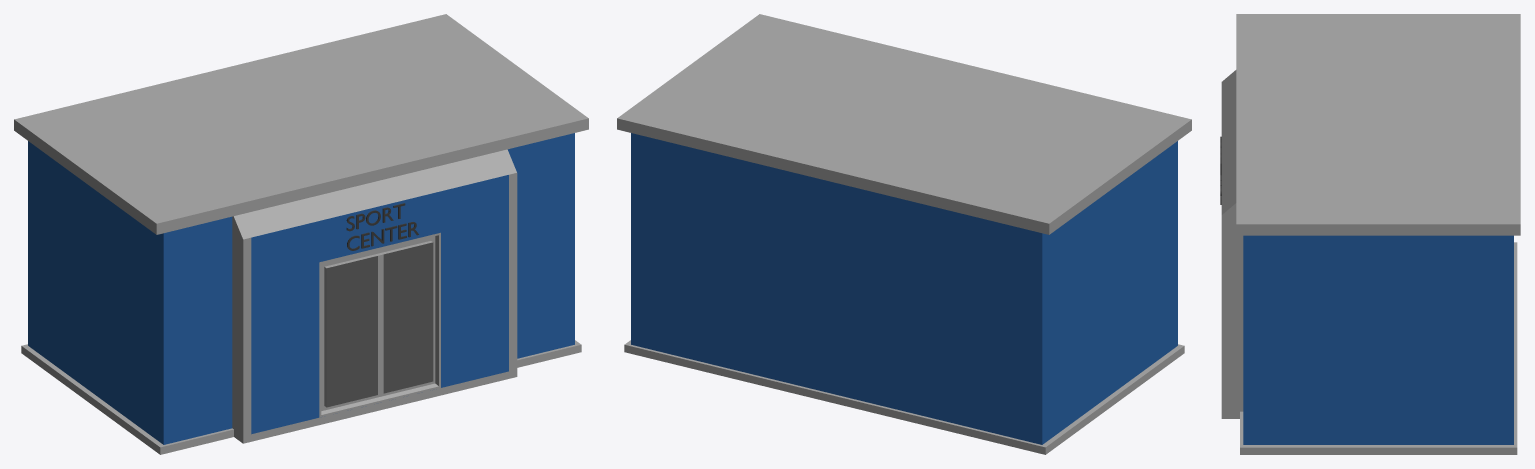
The model's file is SPORT CENTER_Material.038.glb.
3 renders of one model, left to right at view 1: azimuth 30°, elevation 25°; view 2: azimuth 150°, elevation 25°; view 3: azimuth 270°, elevation 25°, orthographic.
Visible parts, largest first — view 1: SPORT CENTER_Material.038_0; view 2: SPORT CENTER_Material.038_0; view 3: SPORT CENTER_Material.038_0.
Boxes of the visible parts, left/top/right/bottom form: SPORT CENTER_Material.038_0: left=14, top=14, right=588, bottom=454; SPORT CENTER_Material.038_0: left=617, top=14, right=1191, bottom=454; SPORT CENTER_Material.038_0: left=1220, top=14, right=1520, bottom=454.
Size of the model in its own units: 3.68 by 1.9 by 2.22.
1 material, 1 textured.
